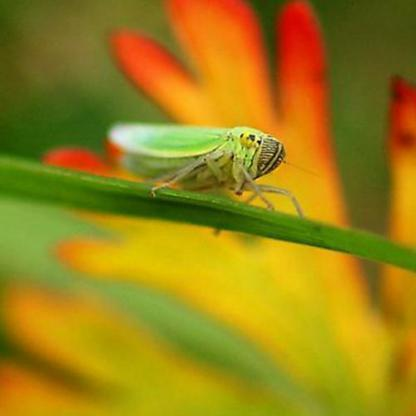green-leafhopper: (108, 116, 294, 211)
